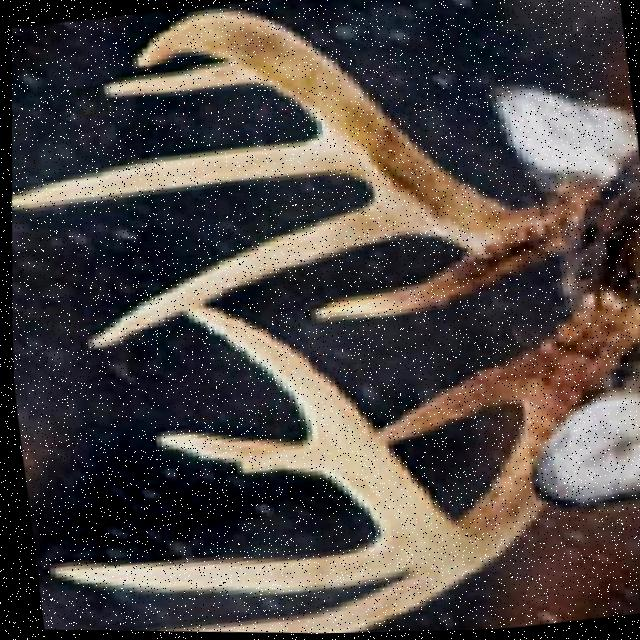L-F: (183, 287, 640, 592)
L-G1: (372, 352, 520, 446)
L-G2: (124, 574, 437, 635)
L-G3: (40, 537, 401, 595)
L-G4: (148, 426, 323, 480)
R-F: (129, 5, 586, 269)
R-G1: (303, 250, 519, 325)
R-G2: (80, 196, 420, 350)
R-G3: (10, 132, 356, 209)
R-G4: (97, 61, 263, 99)
